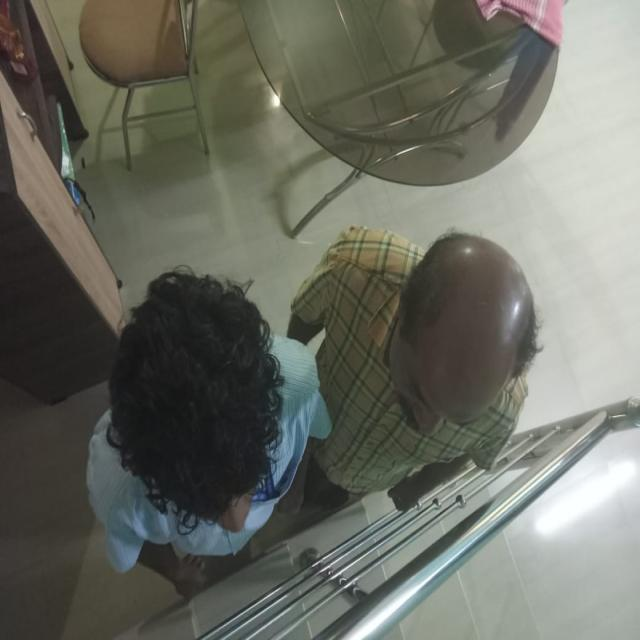humans: (74, 263, 315, 578), (306, 214, 542, 493)
